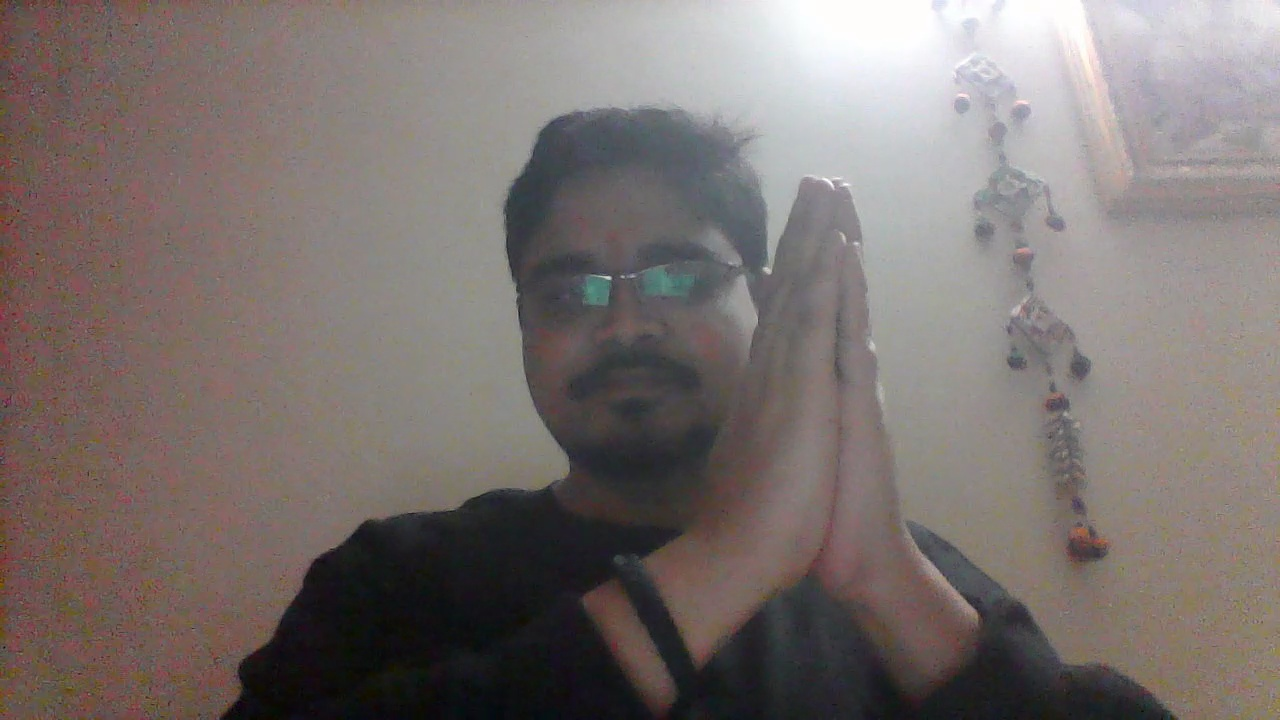Namaste: (697, 172, 965, 653)
